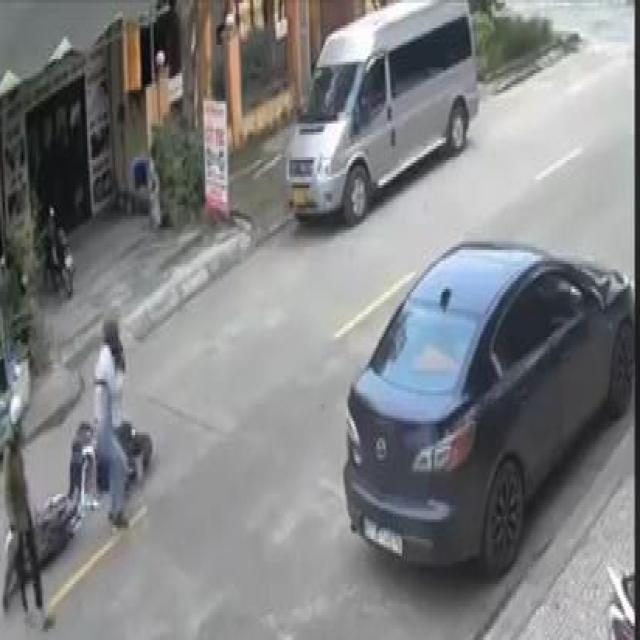accident: (0, 306, 155, 626)
